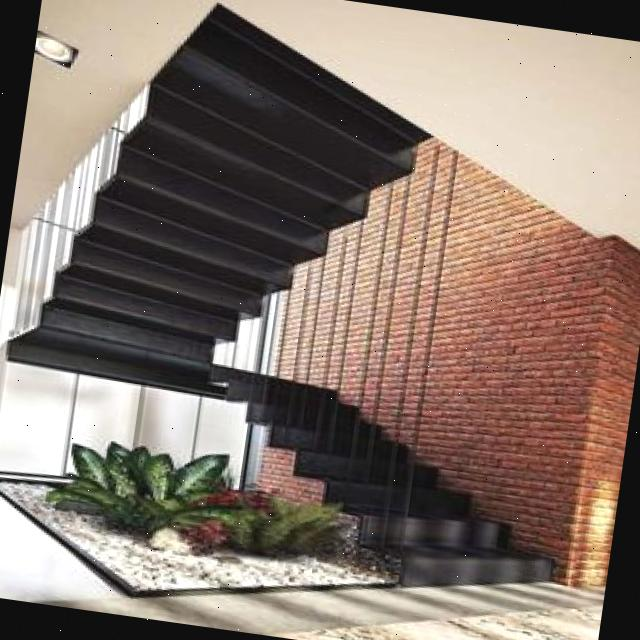stairs: (1, 0, 448, 424)
